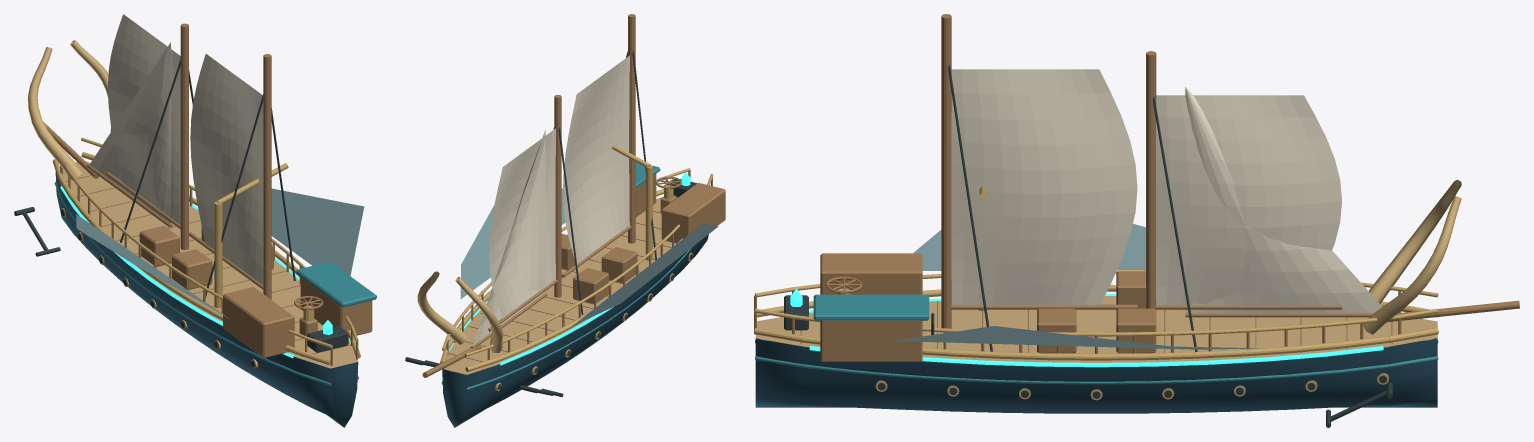
File: premium_salvage_schooner.glb
3 views of the same model, side by side, from view 1: azimuth 30°, elevation 25°; view 2: azimuth 150°, elevation 25°; view 3: azimuth 270°, elevation 25° (orthographic). The views are drawn at different scales.
Visible parts, largest first — view 1: premium_salvage_schooner; view 2: premium_salvage_schooner; view 3: premium_salvage_schooner.
Part boxes in pixels (x1,y1,x2,y2): premium_salvage_schooner: (14, 14, 376, 427); premium_salvage_schooner: (405, 14, 725, 427); premium_salvage_schooner: (754, 14, 1519, 427).
Size of the model in its own units: 5.85 by 7.6 by 13.47.
